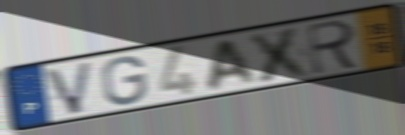4: (157, 42, 200, 99)
A: (205, 36, 260, 93)
G: (100, 54, 149, 107)
R: (305, 17, 362, 77)
V: (42, 59, 96, 118)
X: (246, 23, 316, 86)
